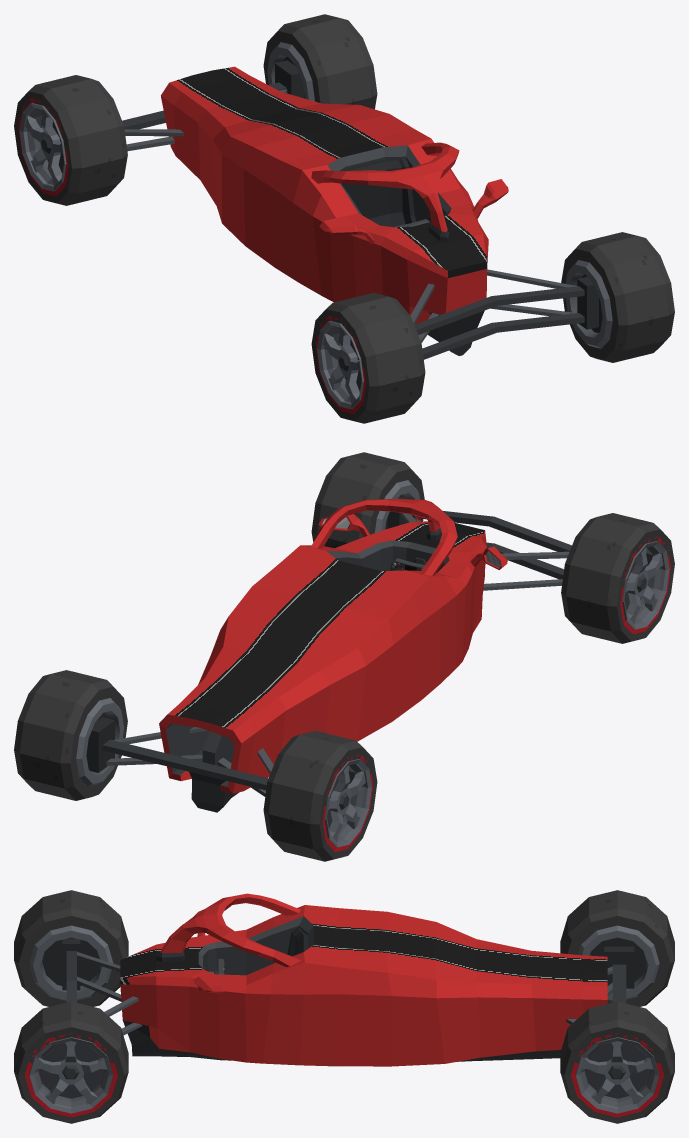
The model's file is car-openwheeler.glb.
3 views of the same model, one above another, from view 1: azimuth 30°, elevation 25°; view 2: azimuth 150°, elevation 25°; view 3: azimuth 270°, elevation 25° (orthographic). The views are drawn at different scales.
Parts seen in each view (by area): view 1: SM_Veh_OpenWheeler_01, SM_Veh_OpenWheeler_01_Wheel_RR, SM_Veh_OpenWheeler_01_Wheel_FR, SM_Veh_OpenWheeler_01_Wheel_FL, SM_Veh_OpenWheeler_01_Wheel_RL, SM_Veh_OpenWheeler_01_Halo_01; view 2: SM_Veh_OpenWheeler_01, SM_Veh_OpenWheeler_01_Wheel_FR, SM_Veh_OpenWheeler_01_Wheel_RR, SM_Veh_OpenWheeler_01_Wheel_RL, SM_Veh_OpenWheeler_01_Wheel_FL, SM_Veh_OpenWheeler_01_Halo_01; view 3: SM_Veh_OpenWheeler_01, SM_Veh_OpenWheeler_01_Wheel_FL, SM_Veh_OpenWheeler_01_Wheel_RL, SM_Veh_OpenWheeler_01_Wheel_FR, SM_Veh_OpenWheeler_01_Wheel_RR, SM_Veh_OpenWheeler_01_Halo_01.
Part boxes in pixels (x1,y1,x2,y2): SM_Veh_OpenWheeler_01: [122, 60, 598, 359]; SM_Veh_OpenWheeler_01_Wheel_RR: [14, 75, 127, 205]; SM_Veh_OpenWheeler_01_Wheel_FR: [311, 292, 425, 423]; SM_Veh_OpenWheeler_01_Wheel_FL: [561, 232, 674, 362]; SM_Veh_OpenWheeler_01_Wheel_RL: [263, 14, 377, 109]; SM_Veh_OpenWheeler_01_Halo_01: [311, 142, 459, 242]; SM_Veh_OpenWheeler_01: [86, 497, 571, 812]; SM_Veh_OpenWheeler_01_Wheel_FR: [561, 513, 674, 643]; SM_Veh_OpenWheeler_01_Wheel_RR: [263, 730, 377, 861]; SM_Veh_OpenWheeler_01_Wheel_RL: [14, 670, 127, 800]; SM_Veh_OpenWheeler_01_Wheel_FL: [311, 452, 424, 548]; SM_Veh_OpenWheeler_01_Halo_01: [311, 499, 457, 575]; SM_Veh_OpenWheeler_01: [62, 905, 634, 1066]; SM_Veh_OpenWheeler_01_Wheel_FL: [14, 1001, 128, 1123]; SM_Veh_OpenWheeler_01_Wheel_RL: [560, 1001, 674, 1123]; SM_Veh_OpenWheeler_01_Wheel_FR: [14, 890, 128, 1006]; SM_Veh_OpenWheeler_01_Wheel_RR: [560, 890, 674, 1006]; SM_Veh_OpenWheeler_01_Halo_01: [156, 893, 300, 967].
Bounding box in the file's own units: 2.31 × 1.14 × 4.7.
1 material, 1 textured.
